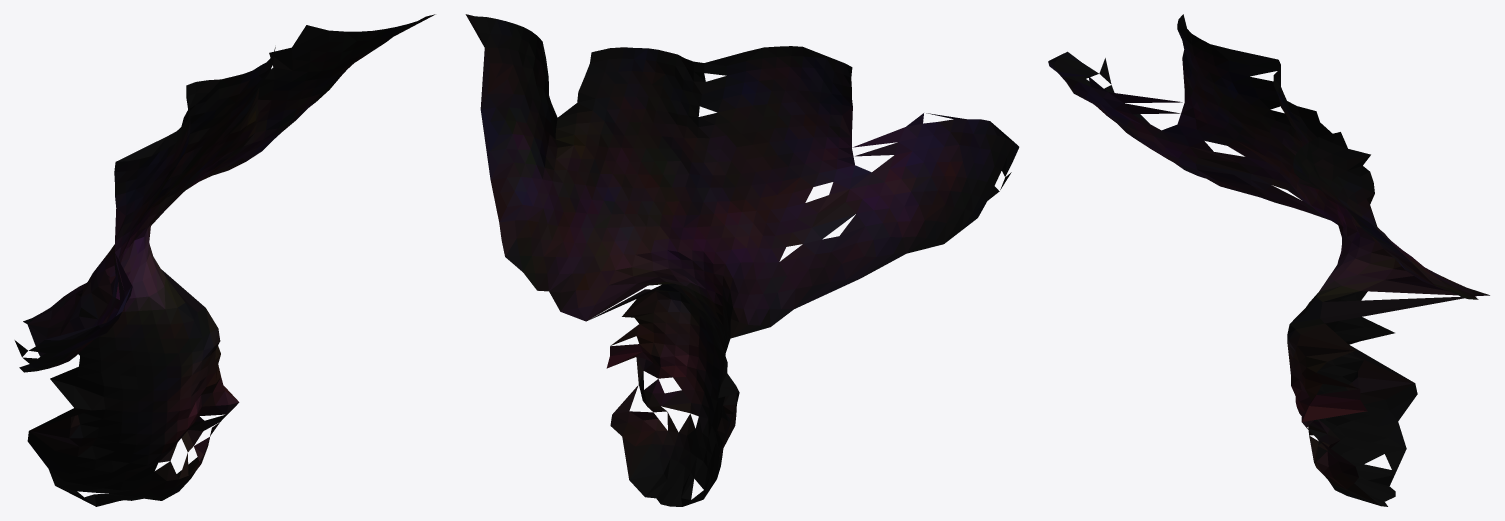
3 views of the same model, side by side, from view 1: azimuth 30°, elevation 25°; view 2: azimuth 150°, elevation 25°; view 3: azimuth 270°, elevation 25° (orthographic). The views are drawn at different scales.
Visible parts, largest first — view 1: ofMesh; view 2: ofMesh; view 3: ofMesh.
Boxes of the visible parts, left/top/right/bottom form: ofMesh: left=14, top=14, right=435, bottom=506; ofMesh: left=465, top=14, right=1019, bottom=506; ofMesh: left=1048, top=14, right=1489, bottom=506.
Bounding box in the file's own units: 480 × 400 × 363.
Materials: 1 (1 with a texture image).
